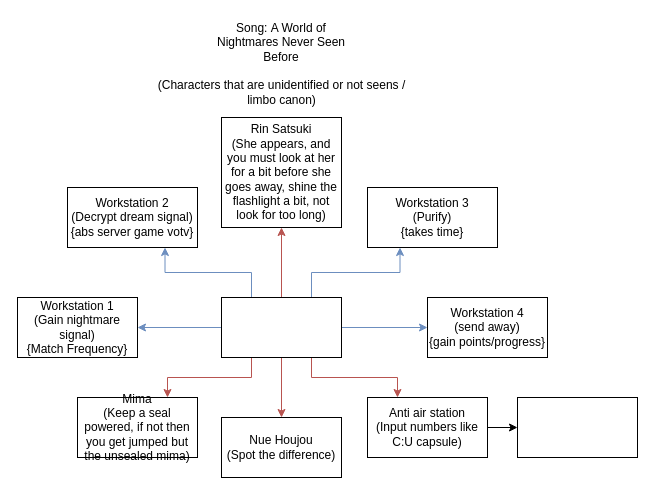
Some shapes in this 655 by 495 pixel diagram are drawn without their labels. Each missing label, with the centre of its shape:
Code appears like Papers please ticket citation on screen: the point at 577,427
Player (Doremy): the point at 281,327
